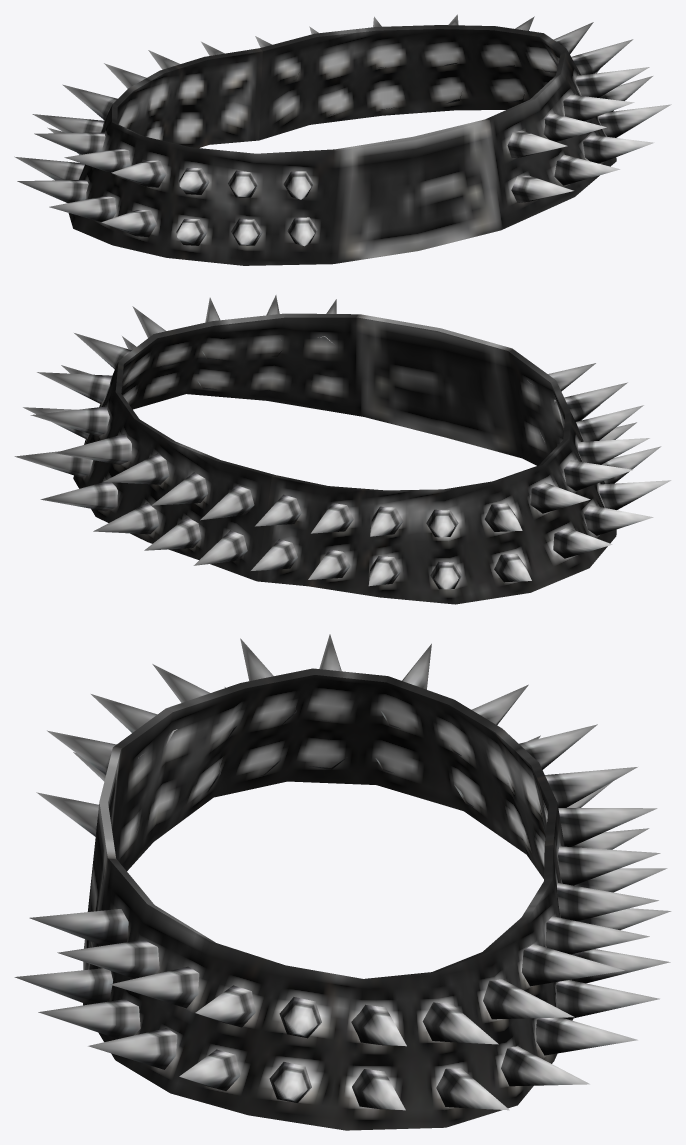
Rendered from BigBelt_Ground.fbx.
The picture shows the model from 3 angles, top to bottom: view 1: azimuth 30°, elevation 25°; view 2: azimuth 150°, elevation 25°; view 3: azimuth 270°, elevation 25°; orthographic projection. The views are drawn at different scales.
Parts seen in each view (by area): view 1: G_Bigbelt; view 2: G_Bigbelt; view 3: G_Bigbelt.
Part boxes in pixels (x1=…): G_Bigbelt: x1=14, y1=14, x2=671, y2=265; G_Bigbelt: x1=14, y1=295, x2=671, y2=604; G_Bigbelt: x1=14, y1=634, x2=671, y2=1130.
Bounding box in the file's own units: 0.1984 × 0.0411 × 0.135.
